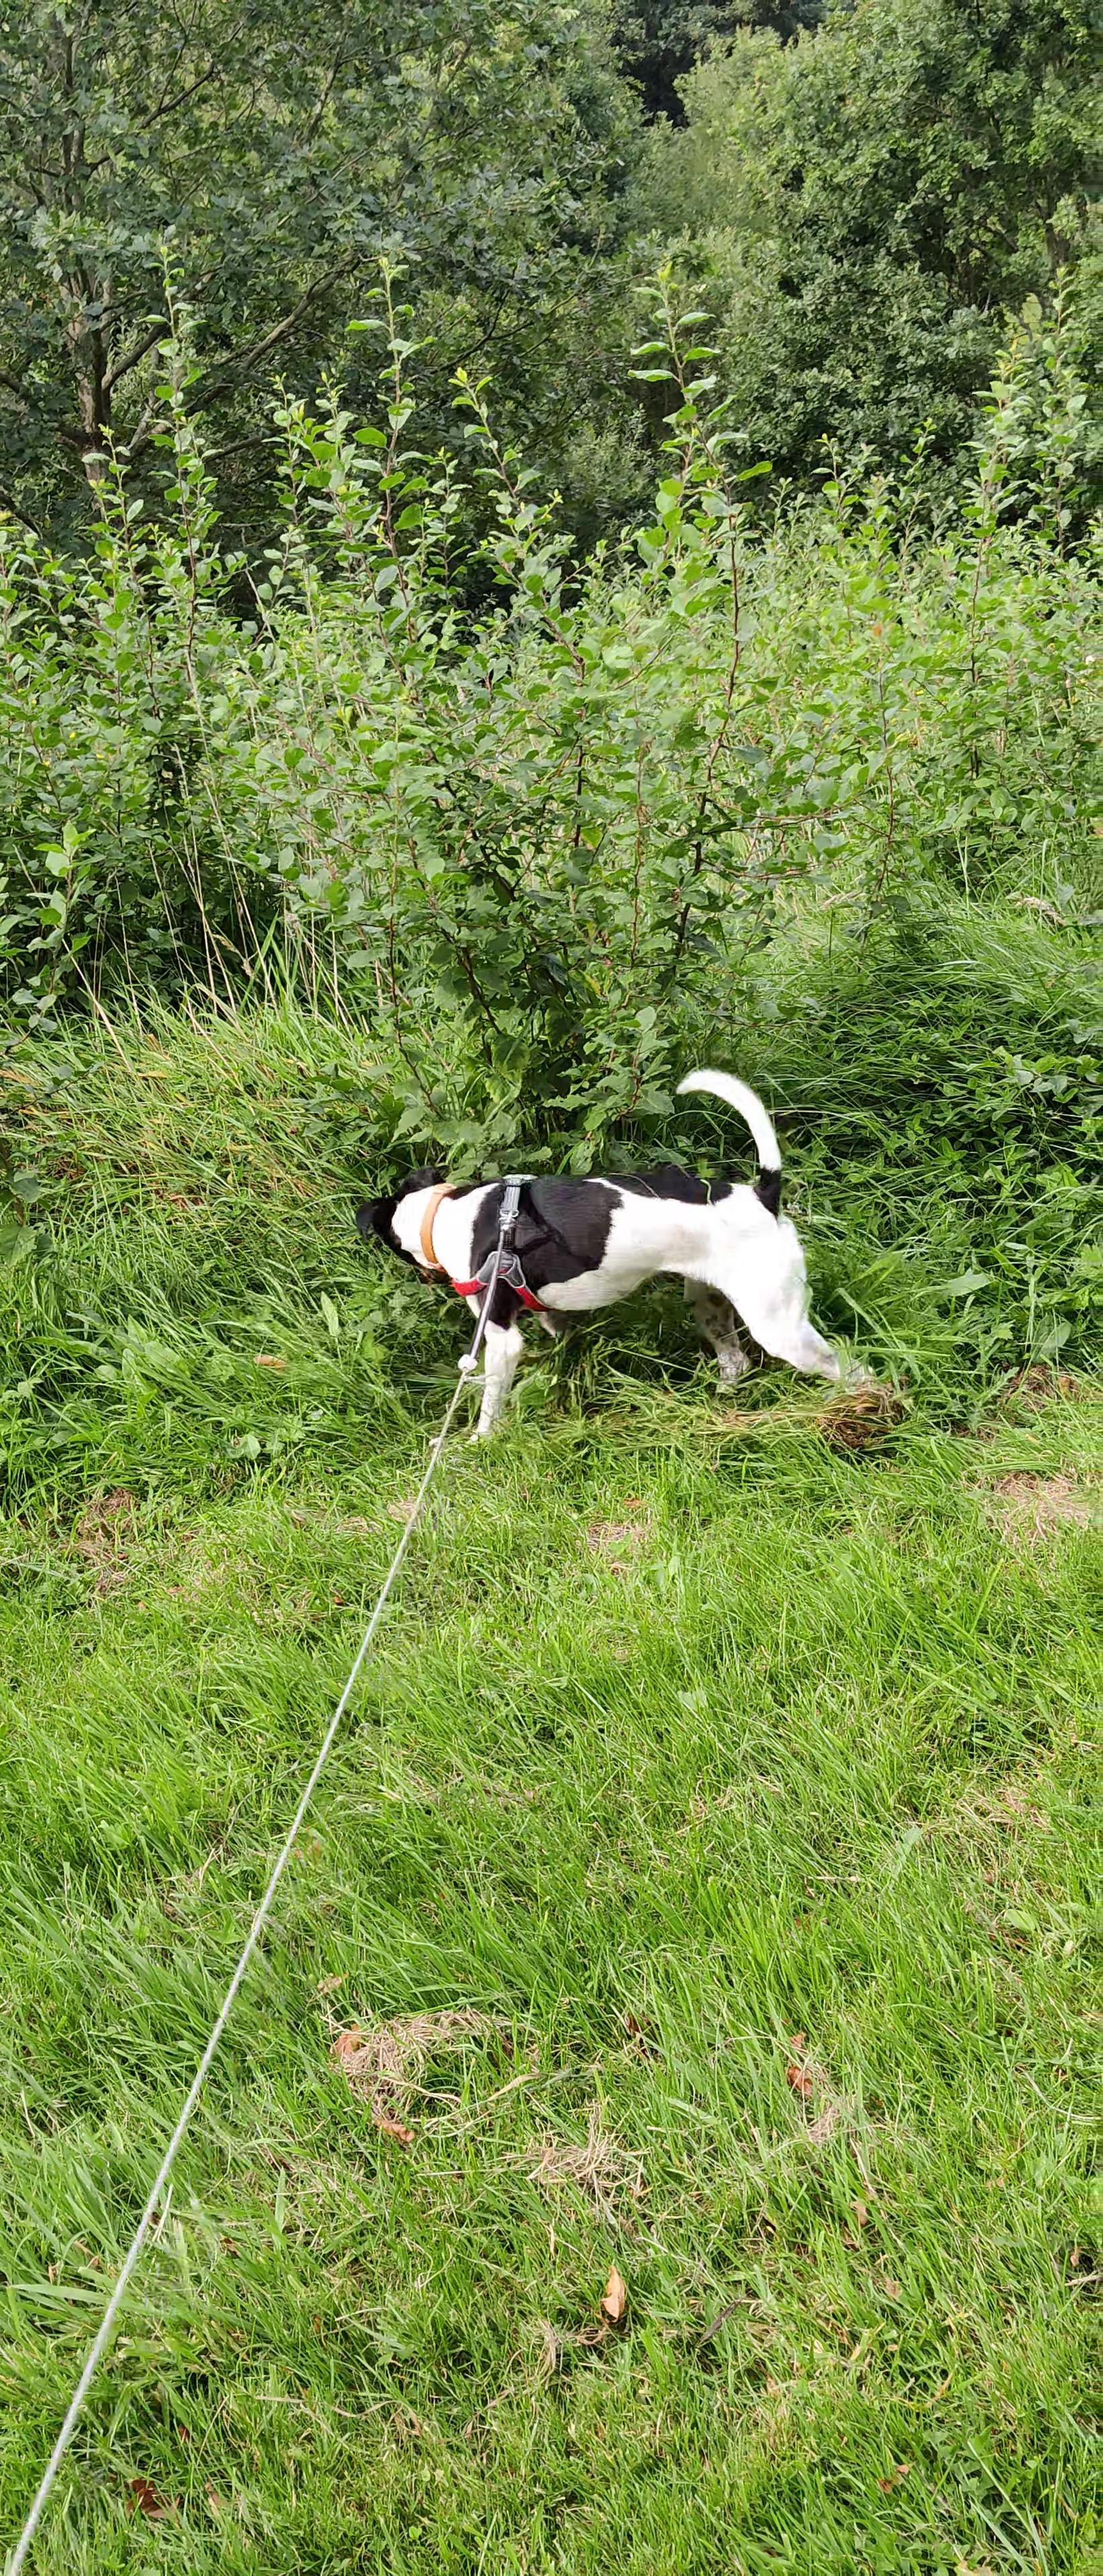Dog: (342, 1060, 909, 1456)
